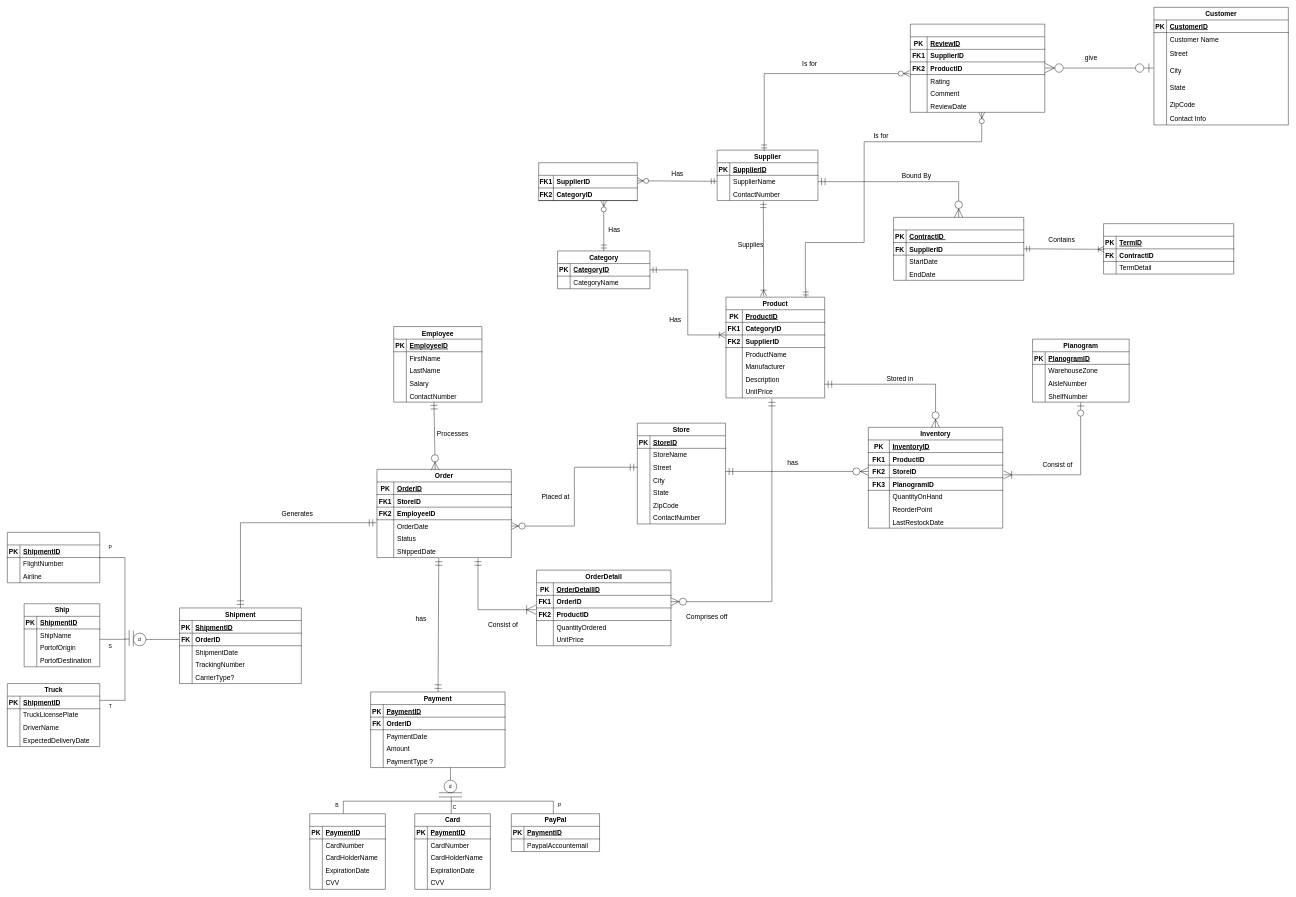
Some shapes in this 1296 by 897 pixel diagram are drawn without their labels. Each missing label, with the box of its shape:
Bank Transfer: (309, 813, 385, 889)
Plane: (7, 532, 100, 583)
ProductReview: (910, 24, 1045, 112)
SupplierCategory: (538, 162, 637, 201)
SupplierContract: (893, 217, 1024, 280)
Terms: (1103, 223, 1234, 274)
